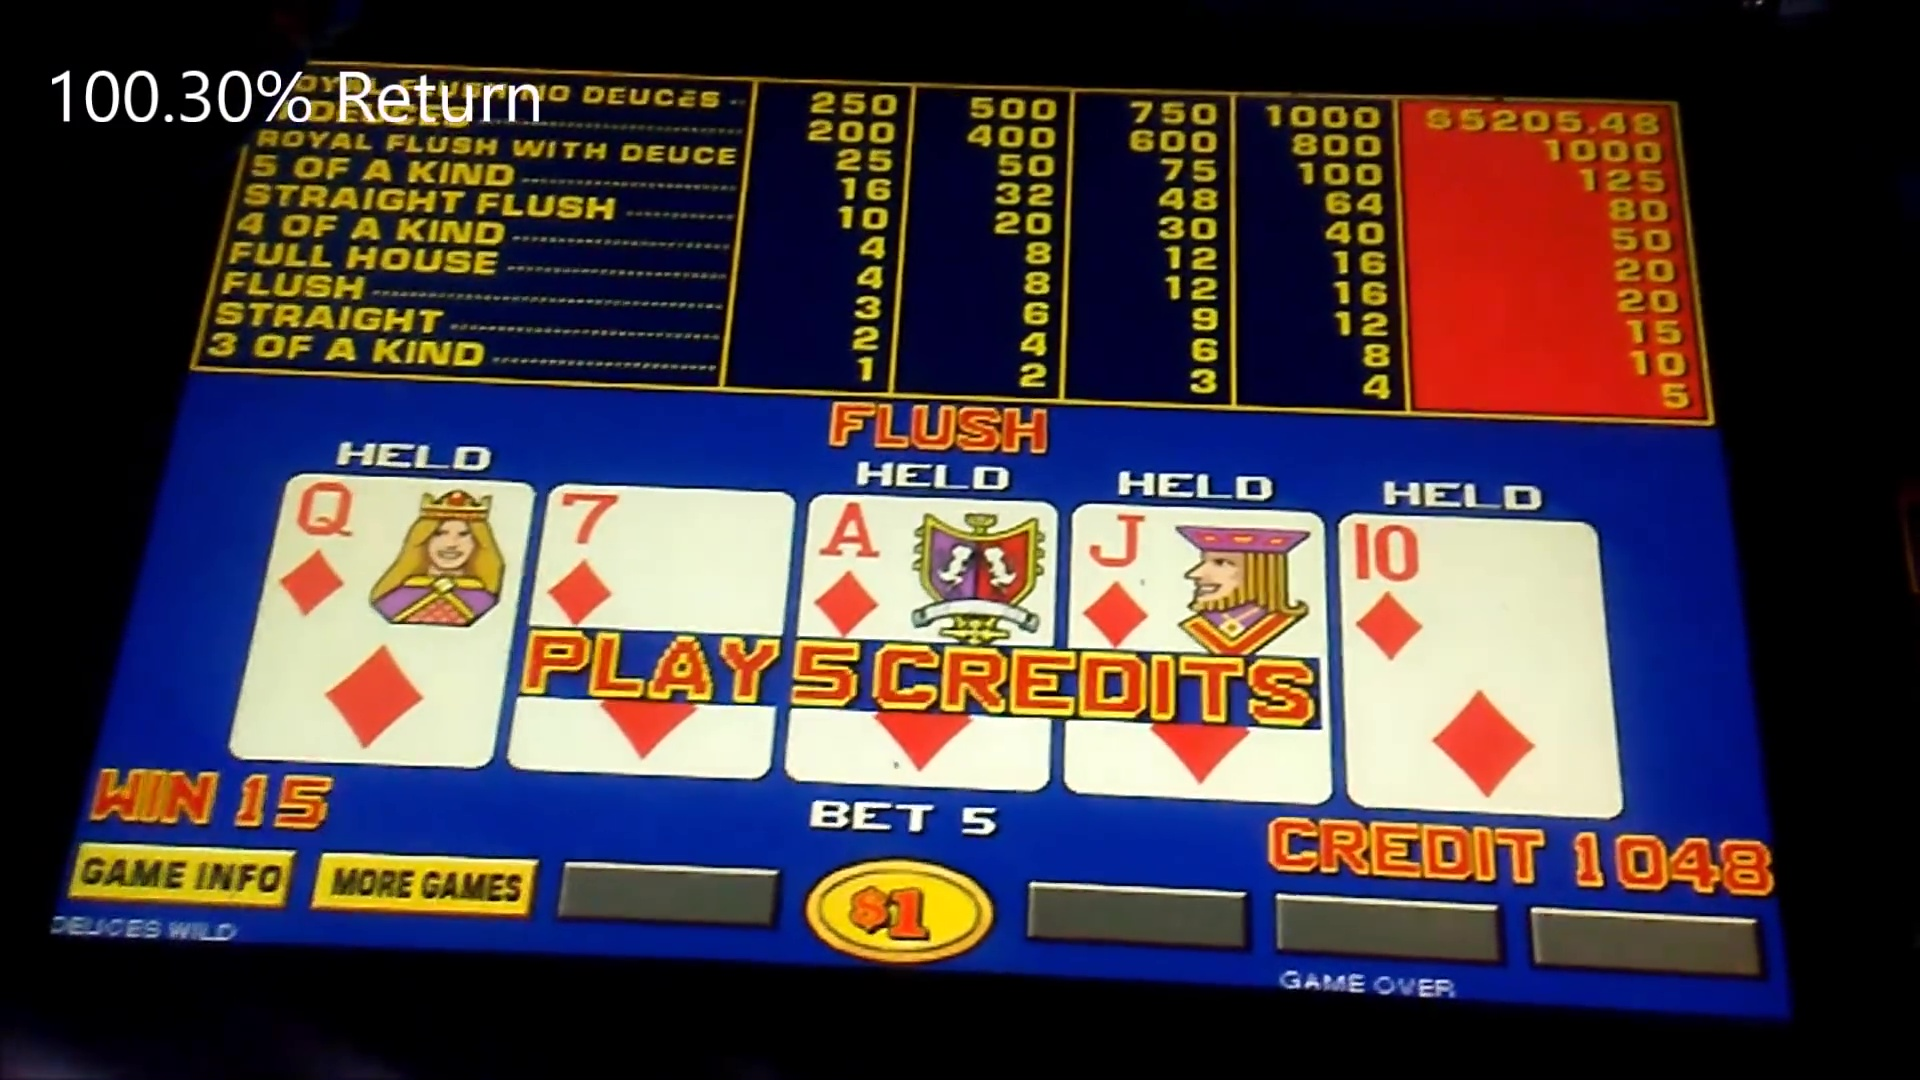7D: (543, 491, 785, 620)
AD: (818, 493, 1033, 634)
JD: (1077, 506, 1320, 644)
QD: (289, 476, 516, 632)
TD: (1344, 516, 1602, 669)
